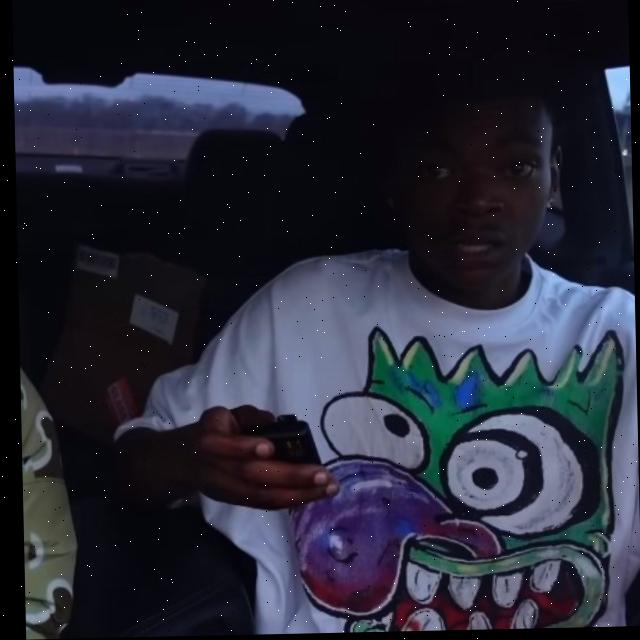vape: (240, 415, 321, 470)
